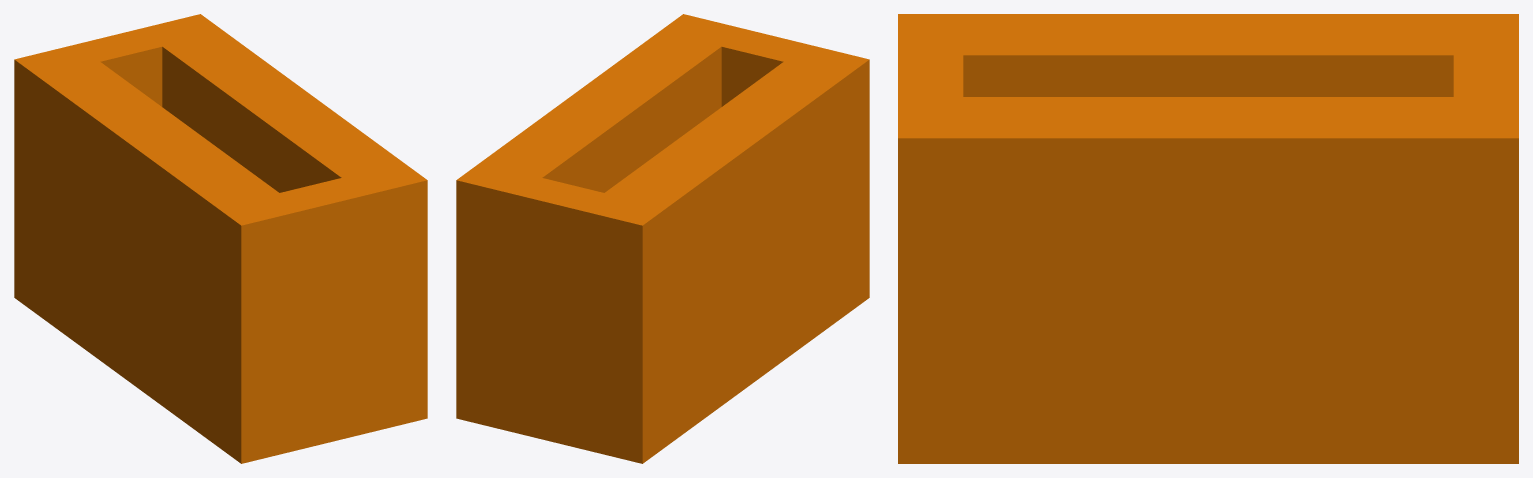
File: scene_0_wall_collisions.glb
3 renders of one model, left to right at view 1: azimuth 30°, elevation 25°; view 2: azimuth 150°, elevation 25°; view 3: azimuth 270°, elevation 25°, orthographic. The views are drawn at different scales.
Visible parts, largest first — view 1: Cube.009, Cube.006, Cube.007, Cube.008; view 2: Cube.008, Cube.006, Cube.007, Cube.009; view 3: Cube.007, Cube.006, Cube.008, Cube.009.
Boxes of the visible parts, x1,y1,x2,y2 form: Cube.009: (217,162,427,463); Cube.006: (38,62,278,445); Cube.007: (162,31,403,192); Cube.008: (14,14,224,314); Cube.008: (456,162,666,463); Cube.006: (605,62,845,445); Cube.007: (480,31,721,192); Cube.009: (659,14,869,314); Cube.007: (963,97,1453,463); Cube.006: (963,14,1453,96); Cube.008: (1453,14,1518,463); Cube.009: (898,14,963,463).
Size of the model in its own units: 18 by 22 by 38.
